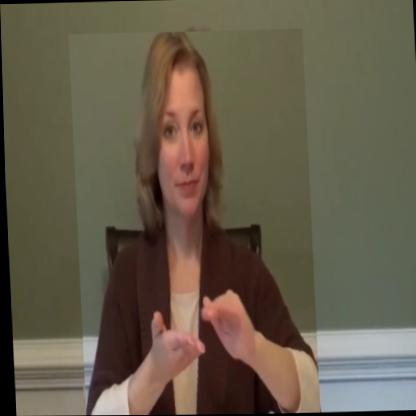ExcuseMe: (68, 28, 318, 416)
